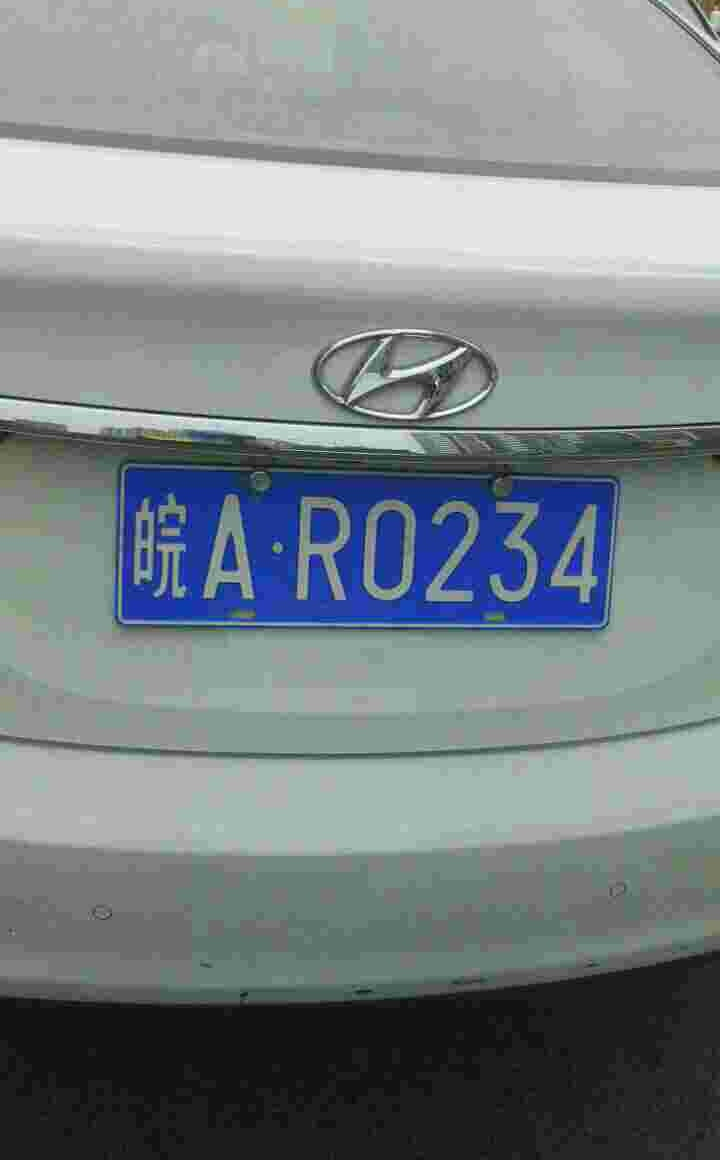license_plate: (106, 470, 652, 627)
